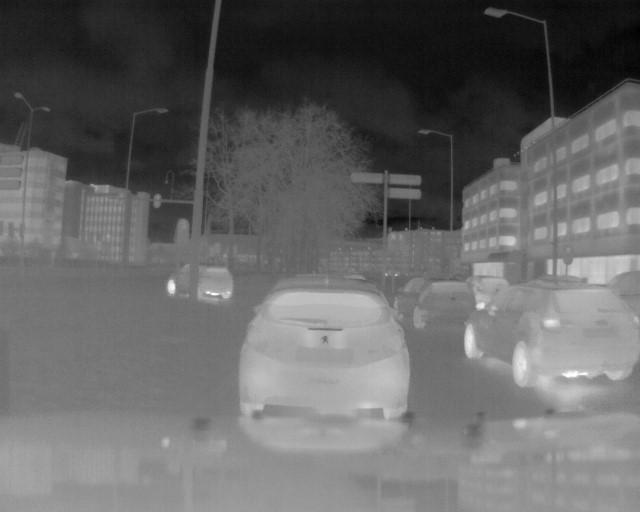car: (245, 277, 412, 426), (463, 286, 640, 385), (395, 276, 473, 335), (162, 260, 235, 301)
